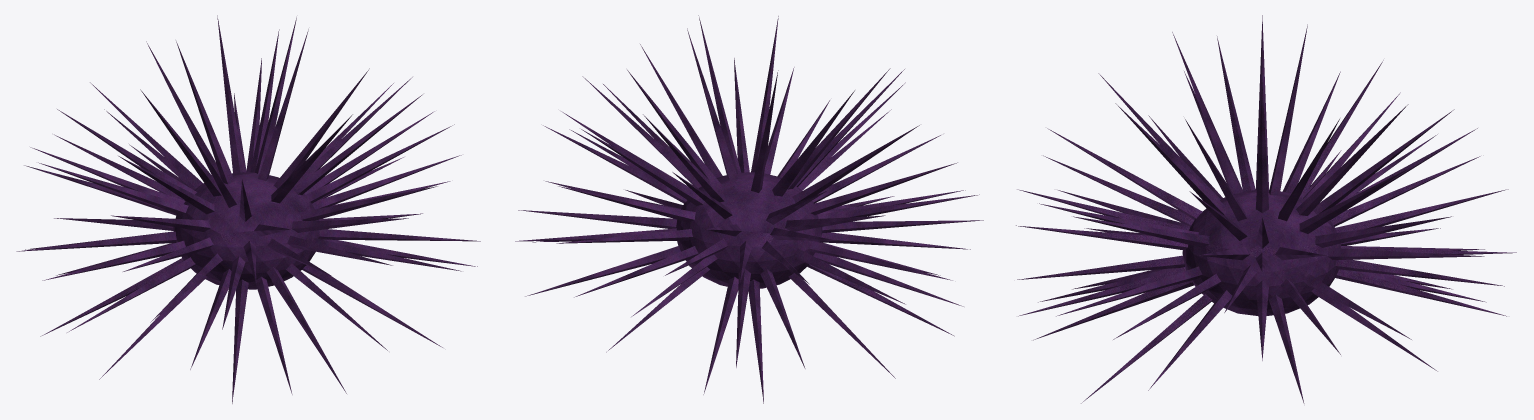
Rendered from erizo.fbx.
3 views of the same model, side by side, from view 1: azimuth 30°, elevation 25°; view 2: azimuth 150°, elevation 25°; view 3: azimuth 270°, elevation 25° (orthographic). The views are drawn at different scales.
Visible parts, largest first — view 1: erizo; view 2: erizo; view 3: erizo.
Part boxes in pixels (x1=…): erizo: x1=16, y1=15, x2=480, y2=403; erizo: x1=515, y1=15, x2=983, y2=403; erizo: x1=1016, y1=15, x2=1516, y2=403.
Bounding box in the file's own units: 0.32 × 0.2031 × 0.3144.
Materials: 1 (1 with a texture image).
